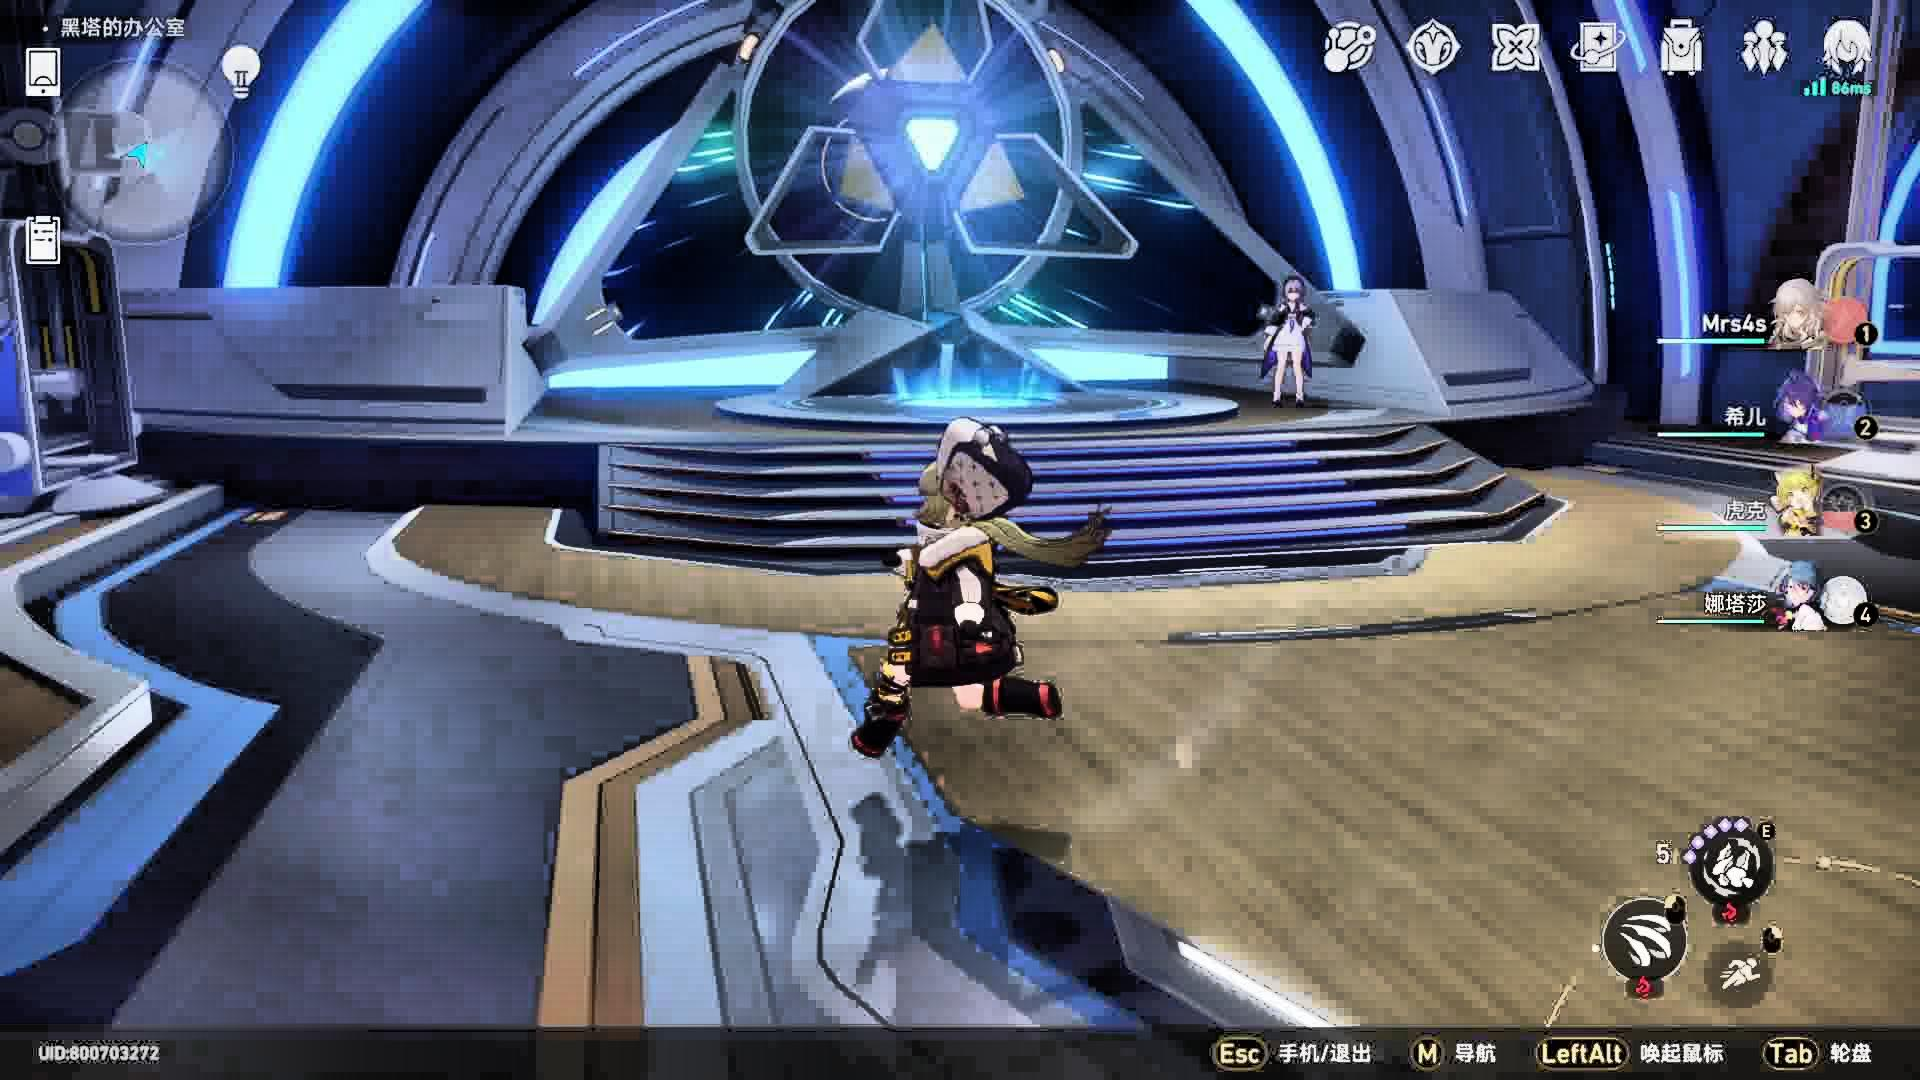Self: (852, 415, 1109, 771)
TeamMate: (1261, 273, 1317, 410)
